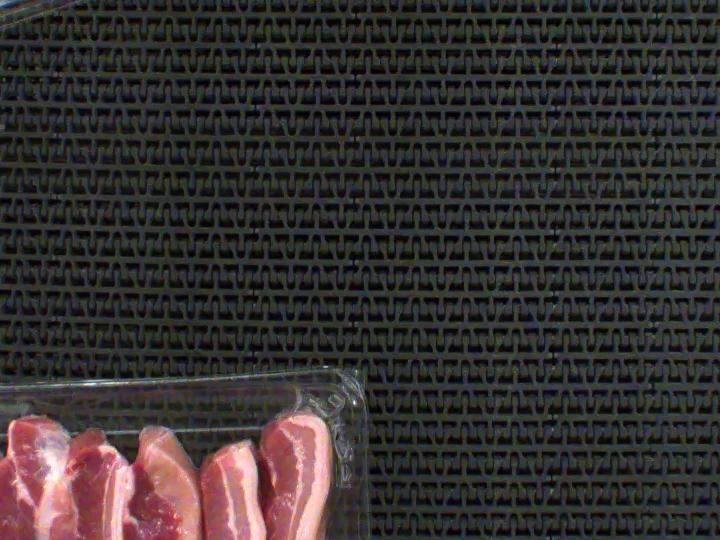packaging-error: (298, 386, 368, 487), (13, 396, 53, 423)
